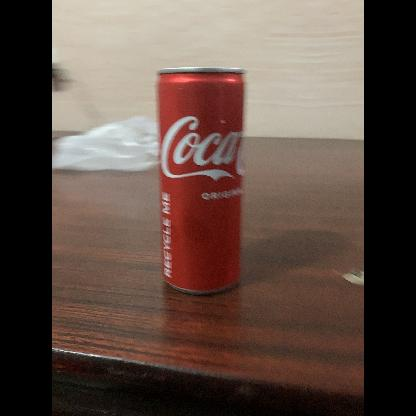Tin_Can: (154, 60, 249, 300)
